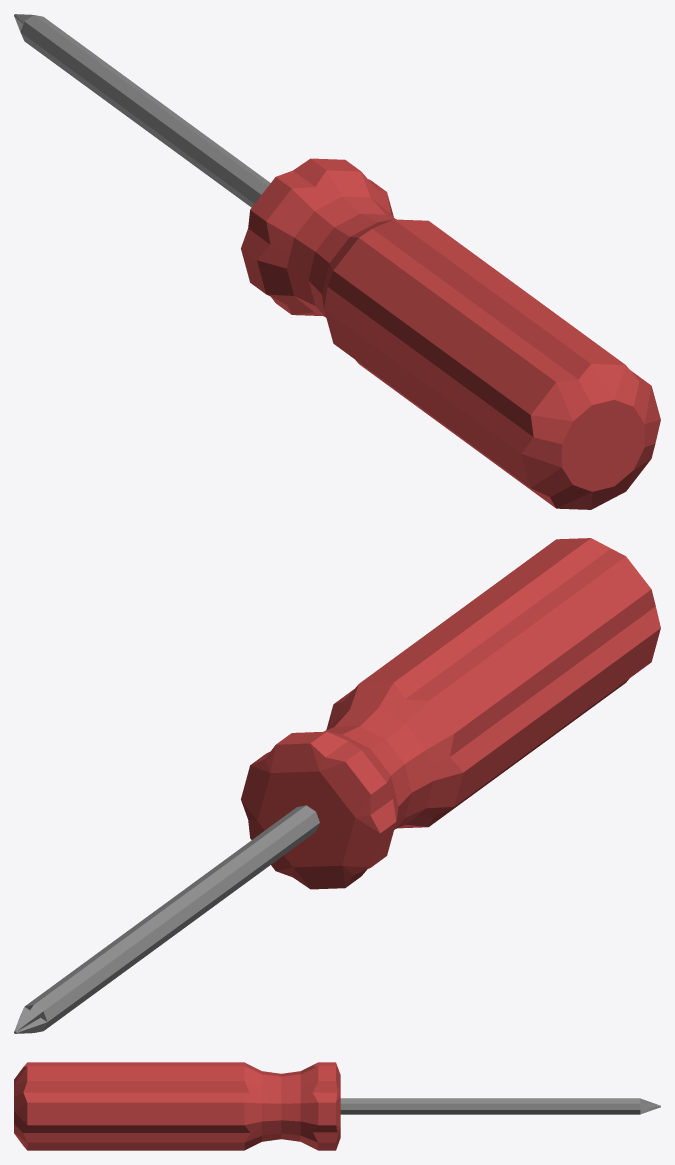
Rendered from Screwdriver.fbx.
The picture shows the model from 3 angles, top to bottom: view 1: azimuth 30°, elevation 25°; view 2: azimuth 150°, elevation 25°; view 3: azimuth 270°, elevation 25°; orthographic projection. The views are drawn at different scales.
Visible parts, largest first — view 1: Screwdriver; view 2: Screwdriver; view 3: Screwdriver.
Part boxes in pixels (x1,y1,x2,y2): Screwdriver: (14,14,660,509); Screwdriver: (14,538,660,1033); Screwdriver: (14,1062,660,1150).
Bounding box in the file's own units: 0.0296 × 0.0296 × 0.2158.
Materials: 1 (1 with a texture image).
